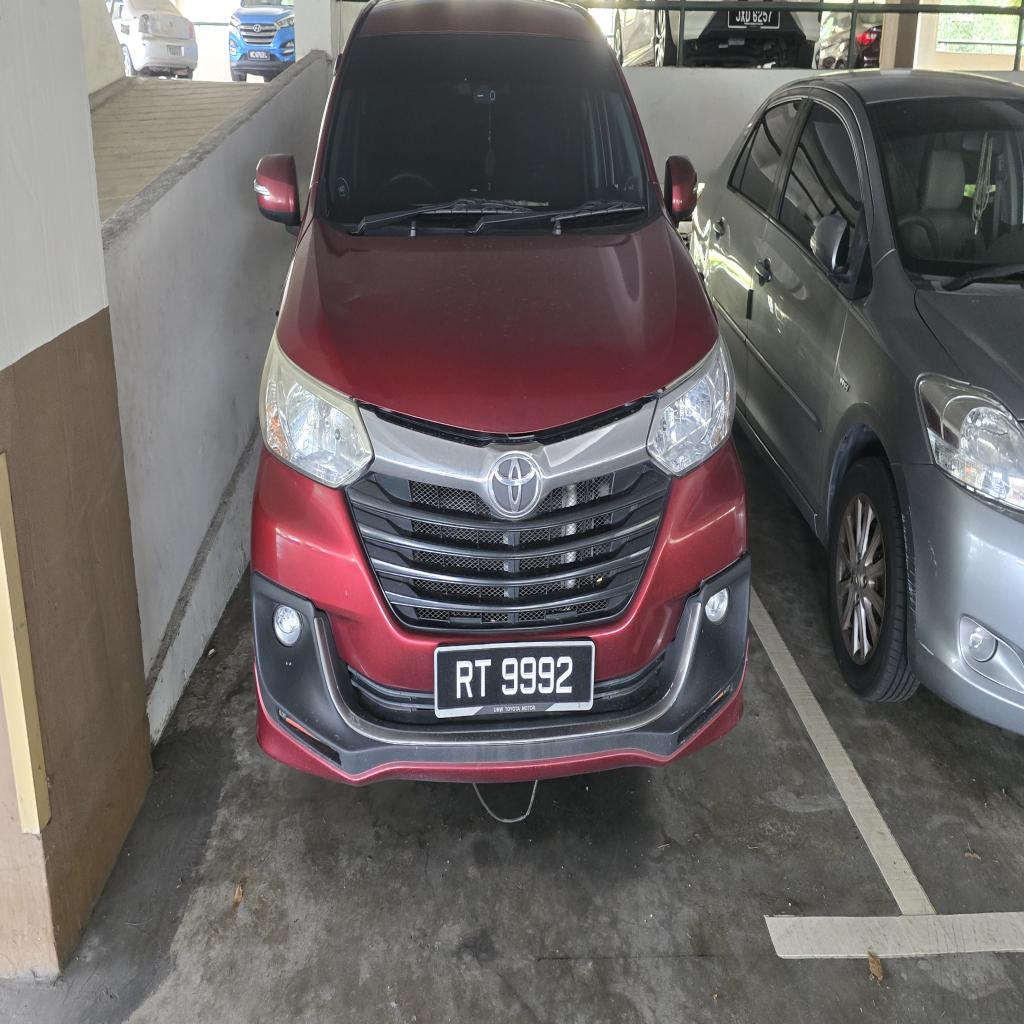car: (252, 0, 749, 782), (682, 4, 819, 67)
car plate: (435, 641, 594, 717), (728, 8, 780, 28)
